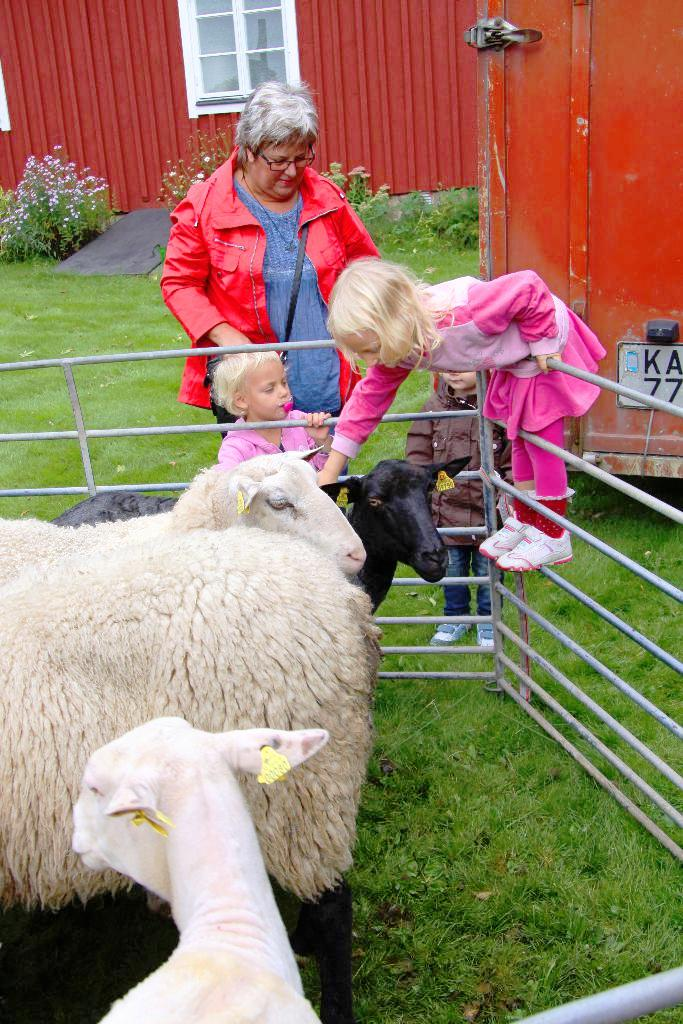Sheep: (0, 526, 374, 894), (0, 447, 363, 597)
